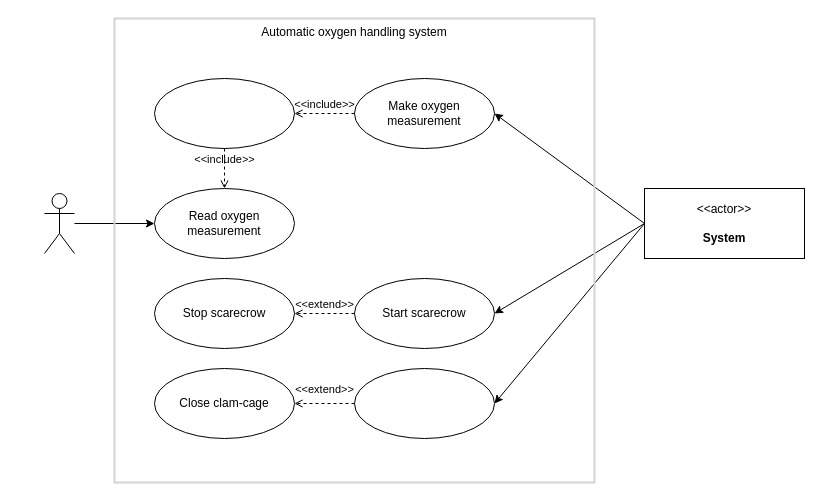
Some shapes in this 822 by 500 pixel diagram are drawn without their labels. Here are the shapes that lost their labels. From the top down, the centre of each, then its label:
At point 224,113: "Display oxygen measurement".
At point 59,223: "Authorized user".
At point 424,403: "Open clam-cage".
